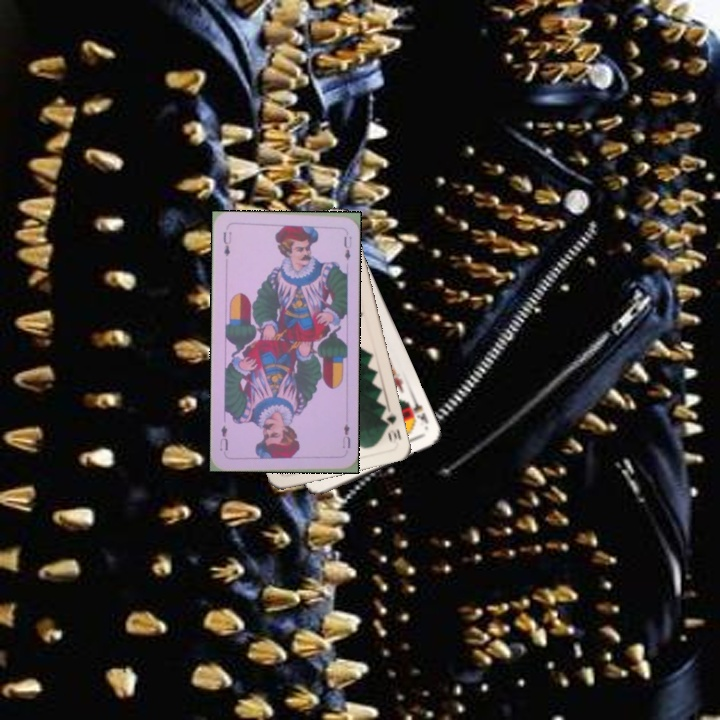EU: (338, 420, 353, 451), (219, 228, 234, 259)
G10: (380, 406, 404, 446)
SK: (403, 394, 431, 432)
